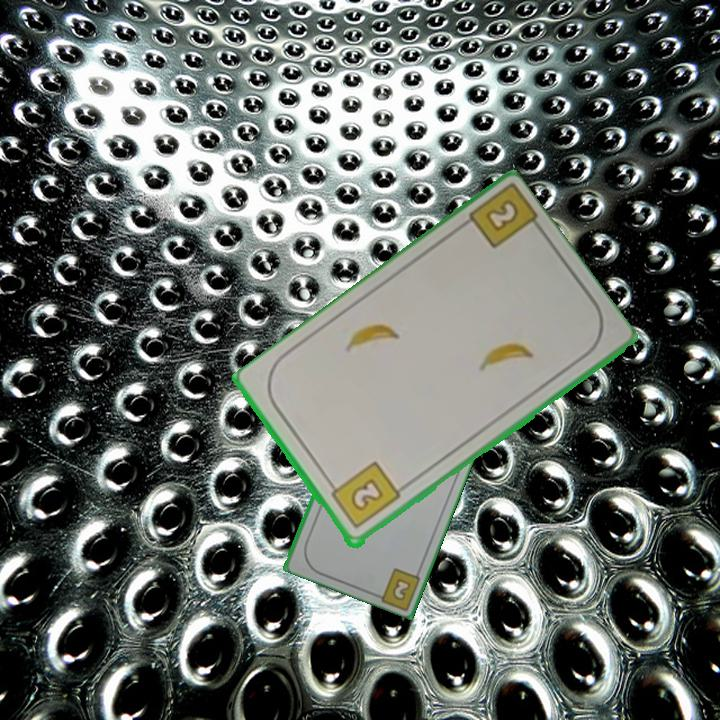2b: (324, 458, 403, 532), (481, 196, 522, 236), (388, 574, 414, 603)
